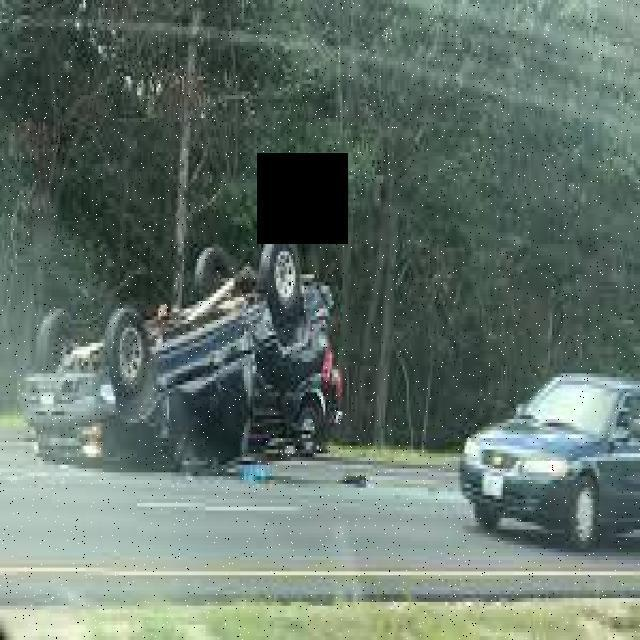multiple_accident: (0, 200, 390, 528)
normal: (455, 295, 640, 577)
